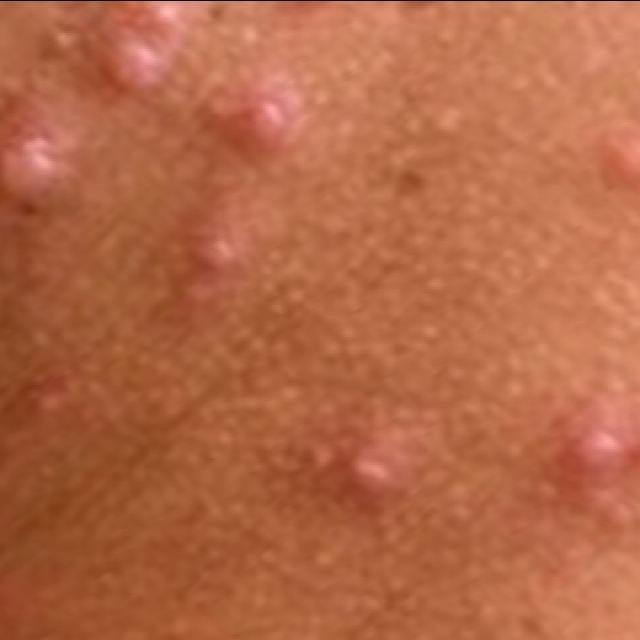acne: (23, 0, 215, 99), (546, 412, 640, 514), (217, 64, 313, 162), (0, 121, 84, 226), (324, 426, 422, 510), (162, 215, 256, 302), (589, 115, 640, 238), (270, 0, 362, 23)
